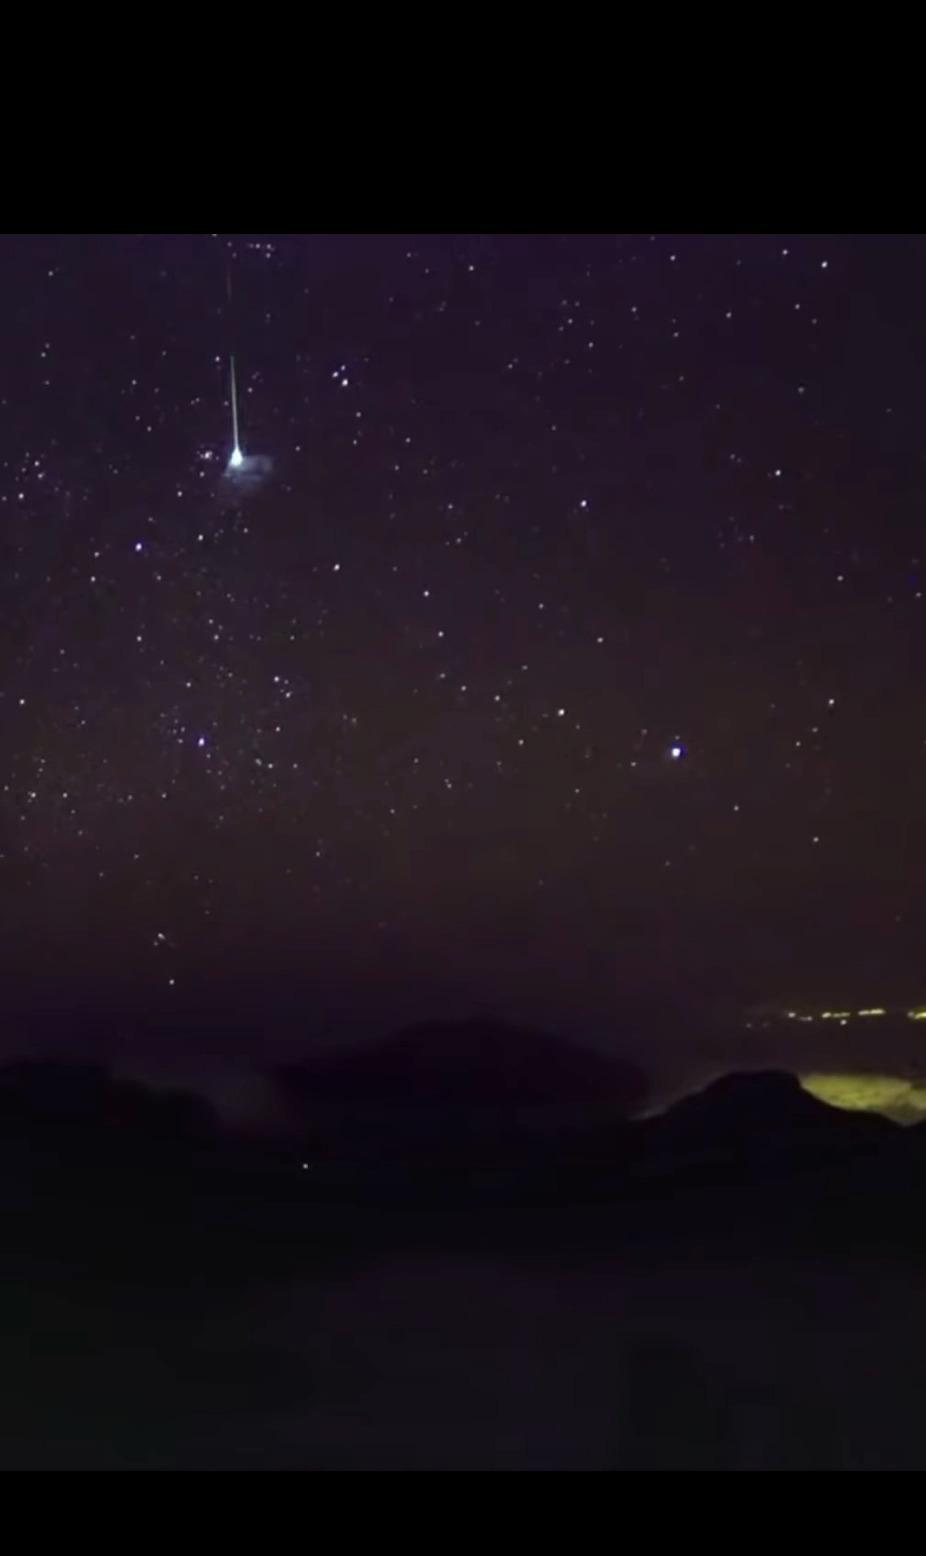meteorite: (201, 353, 273, 490)
